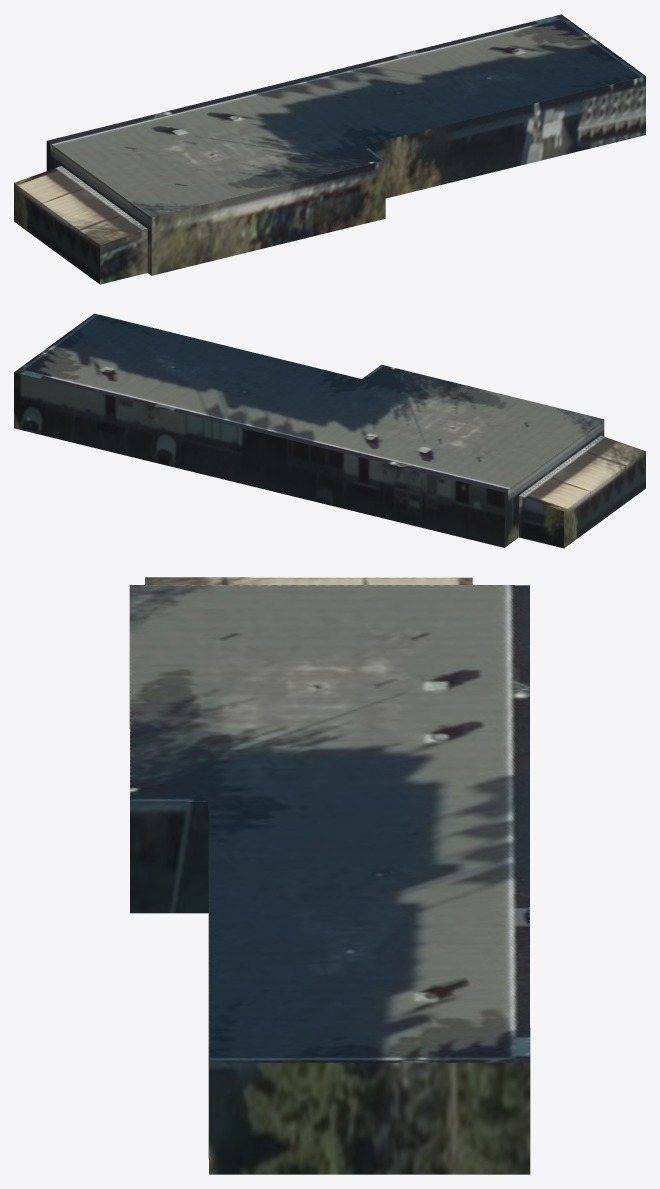
File: talo_build0000014_rotated.obj
3 renders of one model, top to bottom at view 1: azimuth 30°, elevation 25°; view 2: azimuth 150°, elevation 25°; view 3: azimuth 270°, elevation 25°, orthographic. The views are drawn at different scales.
Parts seen in each view (by area): view 1: talo_Build0000014; view 2: talo_Build0000014; view 3: talo_Build0000014.
Part boxes in pixels (x1,y1,x2,y2): talo_Build0000014: (14, 14, 645, 284); talo_Build0000014: (14, 313, 645, 548); talo_Build0000014: (129, 577, 530, 1174).
Size of the model in its own units: 5.03 by 0.5034 by 1.63.
